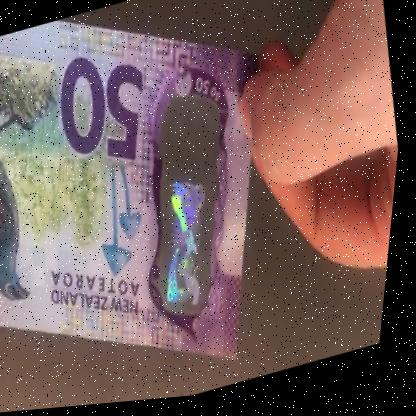50B: (137, 105, 253, 320)
